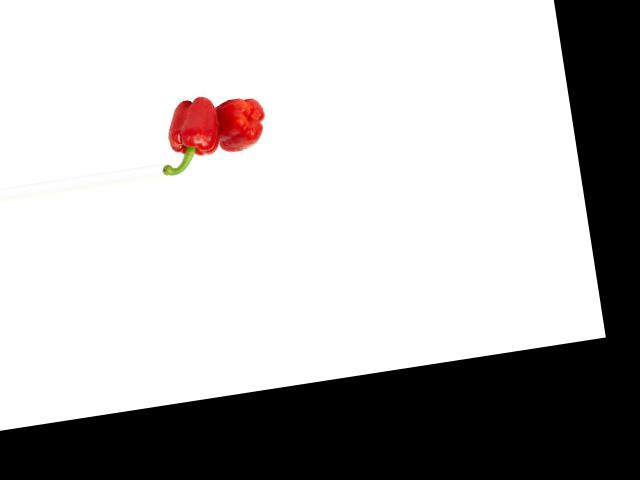bell_pepper: (212, 91, 269, 157)
